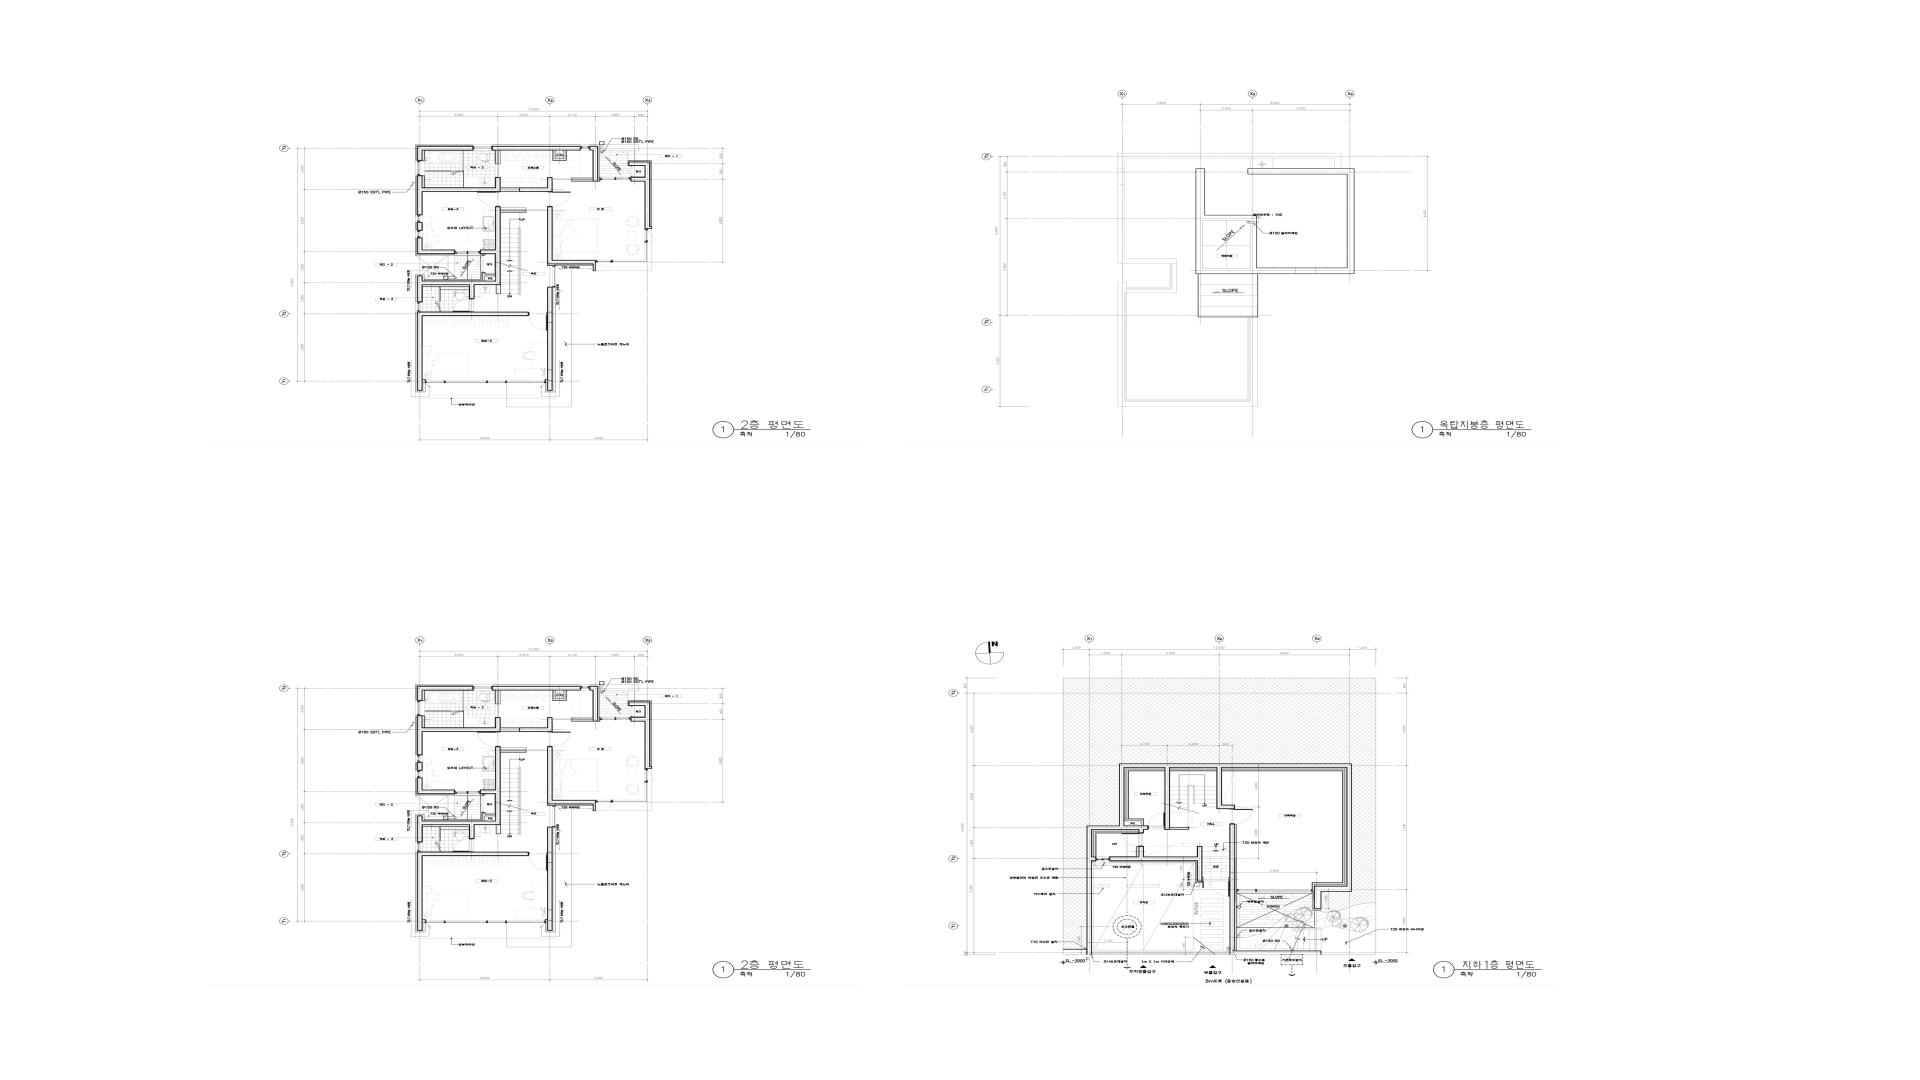door: (1203, 877, 1229, 897), (477, 191, 501, 207), (547, 191, 571, 207), (1230, 808, 1253, 824), (477, 732, 501, 746), (547, 732, 571, 746), (529, 852, 547, 870), (529, 311, 547, 330), (1122, 833, 1145, 847), (452, 839, 473, 852), (452, 298, 473, 311), (1149, 812, 1164, 829), (496, 691, 501, 717), (496, 150, 501, 177), (501, 207, 547, 210), (477, 255, 484, 273), (501, 748, 547, 750), (477, 795, 484, 812), (553, 177, 593, 179), (625, 705, 633, 716), (625, 166, 633, 177), (451, 170, 463, 175), (553, 717, 593, 719), (435, 301, 440, 310), (451, 711, 463, 715), (435, 841, 440, 849)
wall: (1125, 764, 1346, 767), (1346, 174, 1354, 274), (1229, 824, 1234, 955), (1087, 825, 1092, 955), (1346, 764, 1352, 886), (1257, 268, 1348, 274), (1247, 169, 1354, 174), (423, 311, 529, 316), (547, 286, 553, 390), (547, 827, 553, 931), (417, 311, 423, 390), (495, 746, 501, 825), (417, 852, 423, 931), (495, 207, 501, 285), (645, 705, 653, 769), (645, 166, 653, 228), (1109, 856, 1197, 861), (1196, 169, 1205, 215), (423, 852, 529, 856), (422, 727, 496, 732), (422, 820, 496, 825), (1250, 220, 1257, 274), (492, 686, 580, 690), (492, 146, 580, 150), (1234, 951, 1321, 955), (1120, 764, 1125, 825), (1164, 767, 1170, 829), (1196, 220, 1203, 269), (1196, 215, 1257, 220), (417, 686, 473, 691), (1342, 770, 1345, 882), (422, 187, 496, 191), (422, 281, 496, 285), (1196, 269, 1250, 274), (547, 207, 553, 260), (547, 746, 553, 799), (547, 799, 596, 804), (417, 146, 473, 150), (1092, 825, 1149, 829), (1217, 767, 1222, 808), (417, 175, 422, 215), (417, 716, 422, 754), (592, 691, 599, 721), (592, 150, 599, 181), (1315, 886, 1352, 891), (547, 260, 596, 264), (1197, 847, 1203, 881), (417, 276, 423, 302), (417, 815, 423, 841), (1222, 769, 1345, 770), (422, 249, 455, 253), (422, 790, 455, 794), (1126, 770, 1129, 819), (1096, 831, 1139, 833), (1315, 891, 1321, 909), (1110, 861, 1196, 862), (520, 187, 547, 191), (520, 728, 547, 732), (1312, 882, 1345, 885), (1236, 824, 1237, 889), (629, 702, 650, 705), (629, 162, 650, 166), (417, 237, 422, 253), (417, 778, 422, 794), (500, 187, 520, 191), (1236, 891, 1237, 951), (500, 728, 520, 732), (547, 717, 553, 732), (630, 177, 645, 182), (547, 177, 553, 191), (496, 177, 501, 191), (496, 717, 501, 732), (469, 285, 475, 298), (1093, 831, 1096, 857), (469, 825, 475, 839), (501, 210, 526, 212), (480, 249, 496, 253), (1170, 769, 1217, 770), (480, 790, 496, 794), (1138, 847, 1145, 856), (571, 719, 593, 721), (630, 717, 645, 721), (417, 150, 422, 161), (417, 690, 422, 700), (1222, 804, 1236, 808), (1126, 769, 1164, 770), (417, 222, 422, 231), (496, 285, 501, 294), (1170, 827, 1188, 829), (496, 824, 501, 833), (589, 686, 597, 691), (417, 762, 422, 770), (496, 150, 498, 164), (425, 170, 451, 171), (496, 691, 498, 704), (501, 750, 526, 752), (589, 146, 597, 150), (422, 175, 425, 187), (571, 179, 593, 181), (422, 150, 425, 161), (553, 150, 555, 161), (422, 690, 425, 700), (422, 716, 425, 727), (485, 814, 496, 816), (553, 690, 555, 700), (1138, 829, 1145, 833), (1195, 862, 1196, 882), (555, 158, 564, 161), (1312, 891, 1315, 901), (463, 170, 464, 187), (463, 711, 464, 728), (593, 264, 596, 272), (547, 264, 555, 266), (483, 273, 485, 281), (1125, 819, 1141, 820), (483, 812, 485, 820), (1141, 819, 1143, 825), (593, 804, 596, 811), (422, 378, 426, 382), (1092, 857, 1096, 861), (422, 919, 426, 923), (564, 690, 566, 700), (485, 274, 496, 276), (564, 150, 566, 161), (1137, 847, 1138, 857), (1312, 901, 1313, 910), (555, 699, 564, 700), (547, 804, 555, 806), (1234, 889, 1237, 891), (1312, 886, 1315, 889), (1312, 889, 1315, 891), (1196, 882, 1201, 884), (599, 717, 600, 721), (599, 177, 600, 181), (546, 378, 547, 382), (481, 253, 485, 255), (546, 919, 547, 923), (481, 794, 485, 795), (1312, 885, 1315, 886), (1201, 881, 1203, 884), (1092, 861, 1095, 862), (1095, 861, 1096, 862), (440, 286, 440, 301), (440, 310, 440, 311), (1110, 861, 1110, 862), (1234, 824, 1237, 824), (1312, 910, 1321, 910), (440, 827, 440, 841), (440, 849, 440, 852), (425, 711, 451, 711)
window: (612, 782, 647, 802), (612, 243, 647, 262), (426, 920, 546, 923), (426, 380, 546, 382), (1237, 889, 1312, 891), (645, 228, 655, 243), (596, 799, 612, 808), (645, 769, 655, 782), (417, 700, 425, 716), (596, 260, 612, 268), (600, 717, 630, 721), (600, 177, 630, 181), (417, 161, 425, 175), (413, 841, 423, 852), (455, 790, 480, 794), (455, 249, 480, 253), (473, 686, 492, 691), (413, 302, 423, 311), (473, 146, 492, 150), (414, 770, 422, 778), (414, 754, 422, 762), (580, 683, 589, 690), (580, 144, 589, 150), (553, 806, 555, 827), (553, 266, 555, 286), (414, 231, 422, 237), (414, 215, 422, 222), (1096, 857, 1109, 861)
